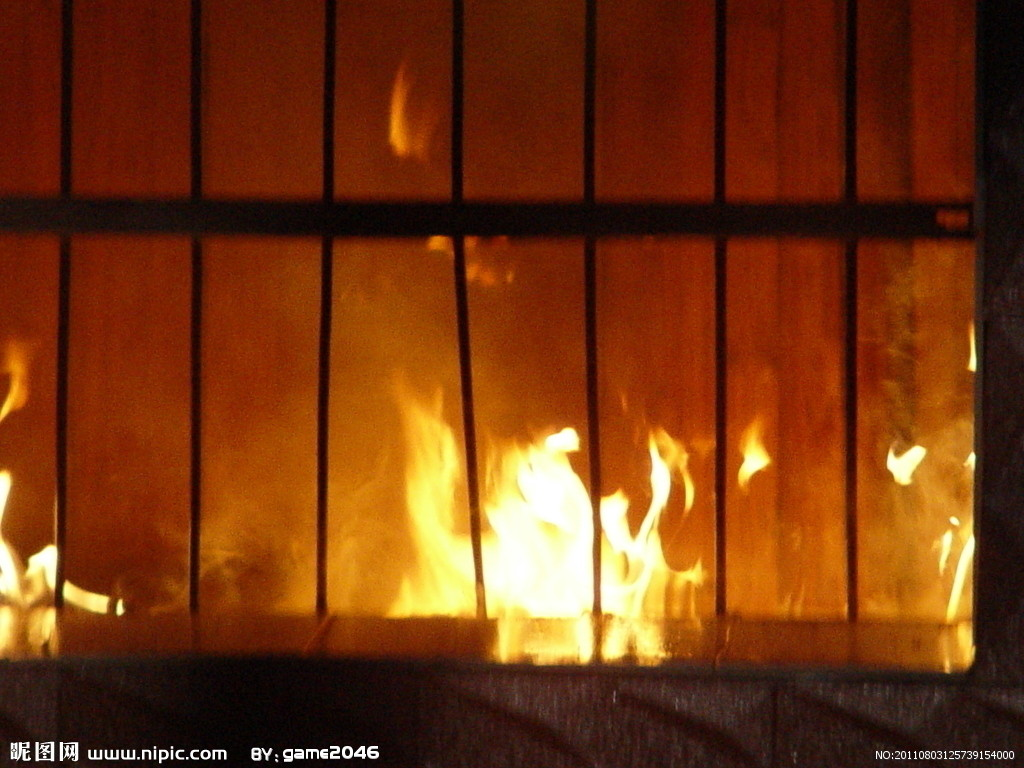fire: (374, 357, 789, 670), (1, 331, 124, 652), (890, 311, 984, 664)
